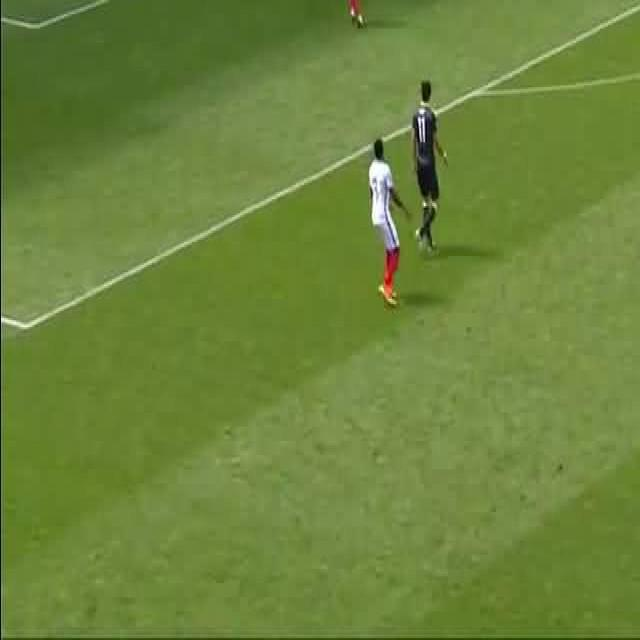player-white: (368, 140, 408, 307), (412, 81, 448, 253), (332, 0, 364, 26)
